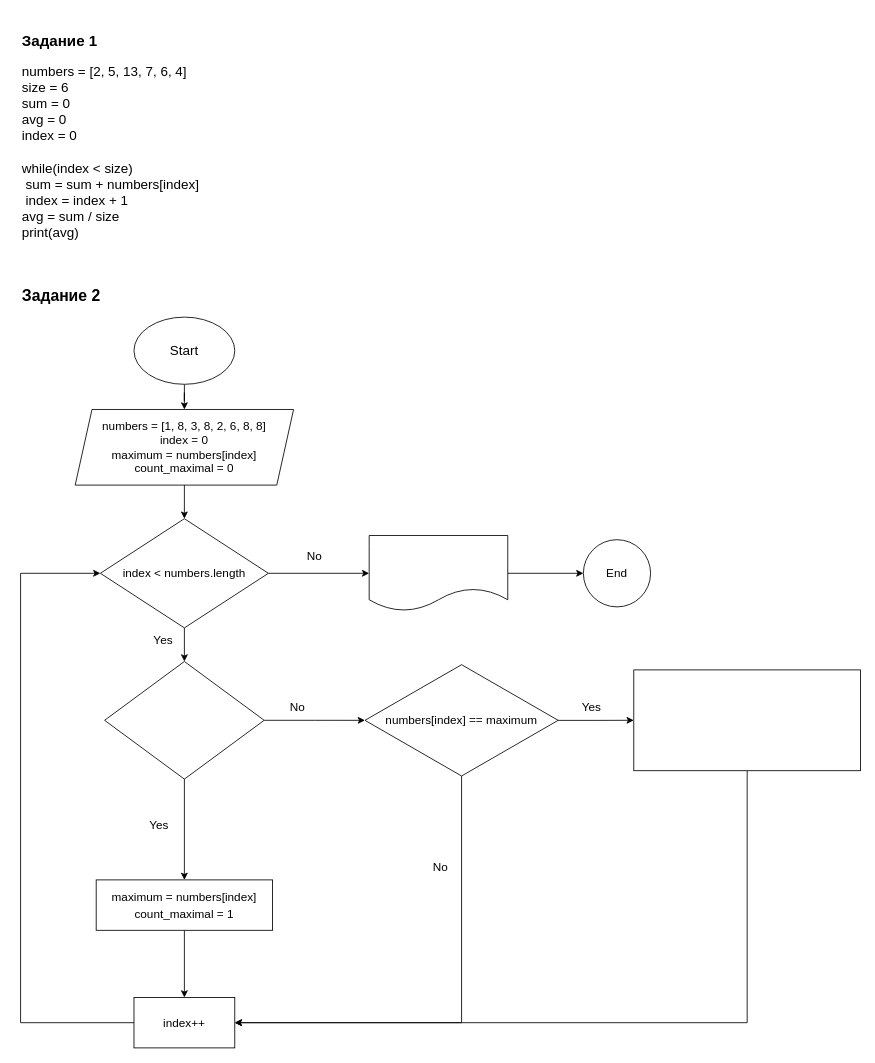
Image size: 875x1063. Some labels were removed from this diagram. Each missing label, with the centre of its shape:
count_maximal = count_maximal++: the point at 747,720
numbers[index] > maximum: the point at 184,720
print(count_maximal): the point at 438,573
